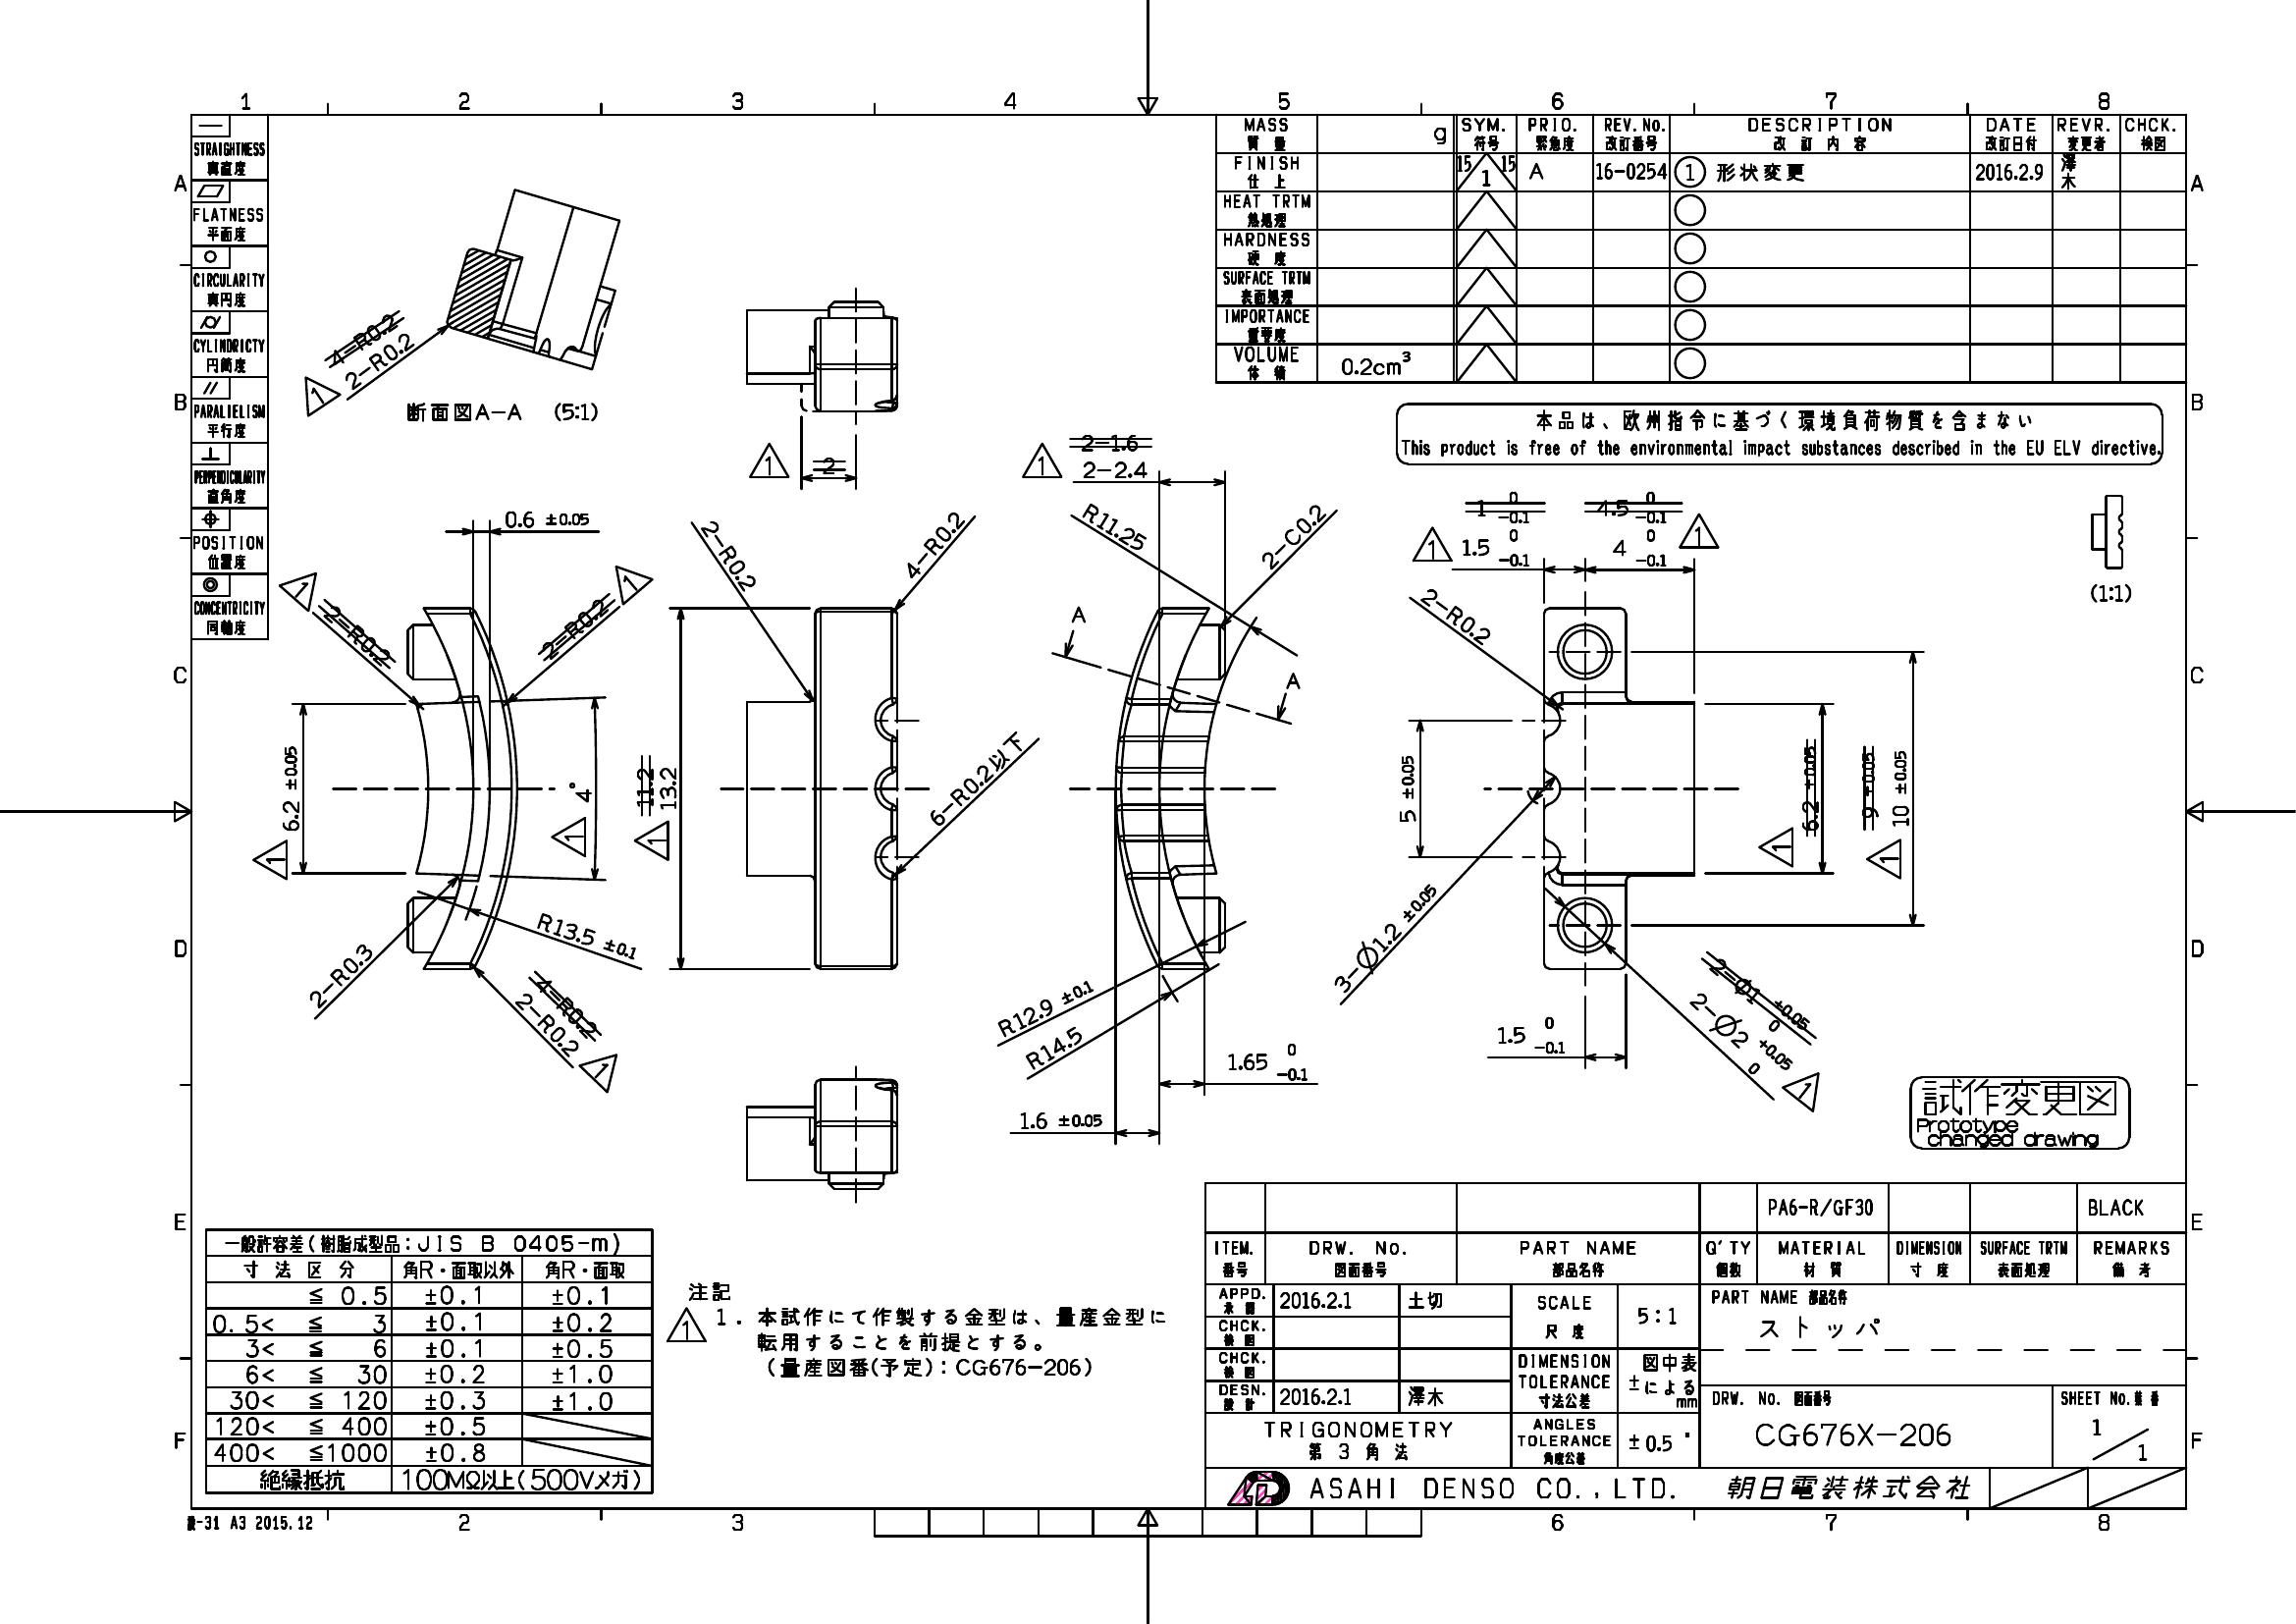anntotation_text: (664, 1281, 1166, 1380), (1393, 404, 2164, 466), (1908, 1076, 2133, 1149), (406, 399, 597, 424), (283, 566, 327, 605), (1864, 838, 1903, 881), (1411, 526, 1455, 562), (632, 819, 671, 859), (1021, 441, 1063, 478), (747, 441, 789, 478), (186, 1517, 311, 1529), (1757, 826, 1794, 866), (550, 816, 587, 856), (606, 561, 646, 598), (251, 840, 288, 879), (1678, 513, 1718, 548), (583, 1049, 624, 1084), (306, 376, 341, 417), (1790, 1067, 1827, 1104), (1070, 605, 1087, 624), (1282, 671, 1300, 691)
dimension_text: (1676, 1014, 1799, 1056), (1314, 921, 1458, 949), (1224, 1042, 1307, 1081), (1495, 1016, 1565, 1055), (1462, 529, 1530, 568), (917, 770, 1040, 791), (993, 995, 1096, 1019), (536, 924, 643, 946), (1609, 529, 1667, 568), (1251, 524, 1337, 547), (1019, 1111, 1103, 1134), (339, 348, 420, 371), (506, 510, 590, 531), (689, 543, 766, 566), (1416, 605, 1498, 626), (892, 533, 975, 554), (299, 963, 379, 984), (1022, 1035, 1091, 1058), (1079, 517, 1152, 538), (281, 745, 299, 831), (1890, 750, 1910, 826), (1398, 754, 1419, 823), (508, 1016, 588, 1033), (1082, 459, 1147, 480), (657, 766, 678, 808), (2090, 584, 2133, 601), (569, 780, 594, 803)
object: (1541, 608, 1695, 970), (747, 606, 898, 972), (1114, 606, 1226, 970), (406, 605, 516, 968), (443, 188, 620, 371), (743, 1077, 898, 1192), (745, 301, 899, 413), (2090, 494, 2124, 569)
title_block: (1203, 1179, 2187, 1512), (1214, 112, 2187, 383), (206, 1229, 653, 1492), (190, 114, 271, 640)
